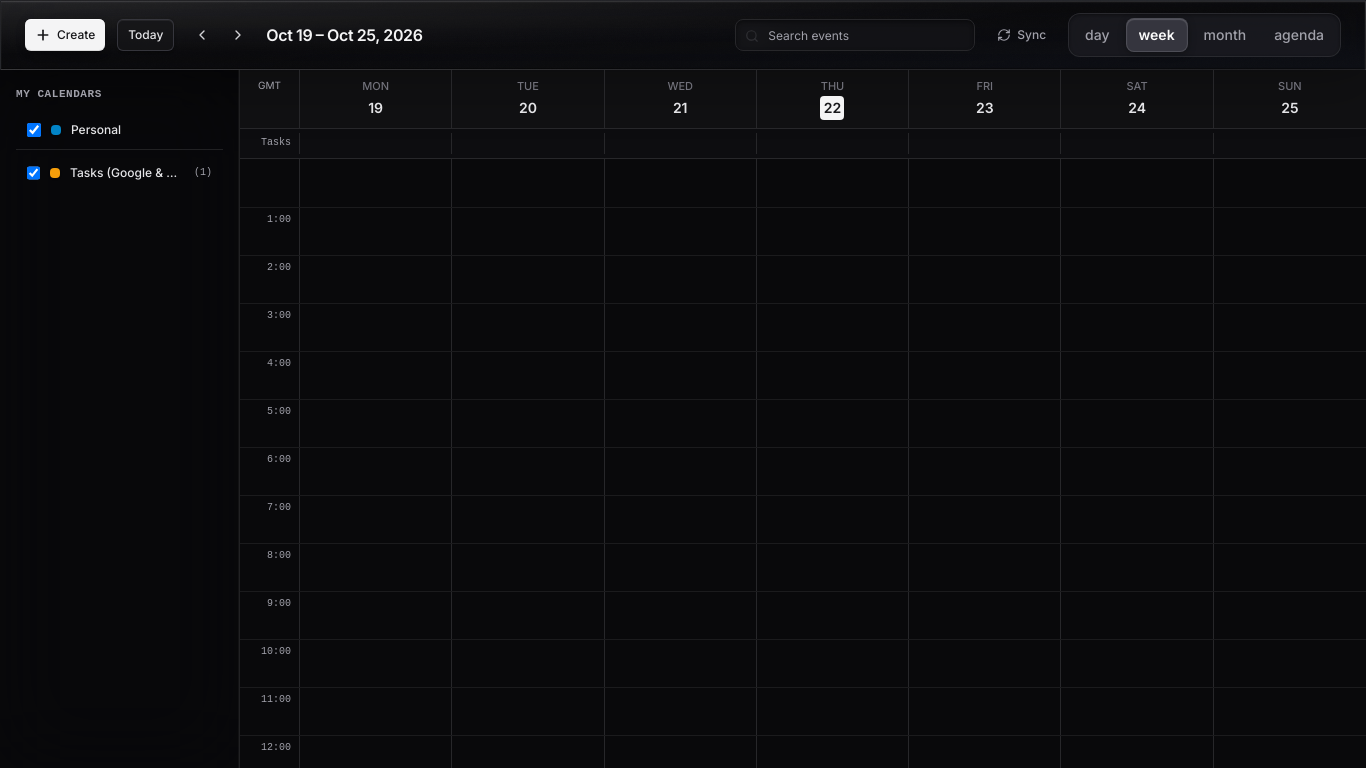
it: Calendar Tabbed Modal & Task Lifecycle (Create, Edit, Delete) › edits an existing task from the Calendar modal and persists modifications
# Switch to Agenda view
Click the tab "agenda" at (1299, 35), box left=1262, top=19, right=1336, bottom=51
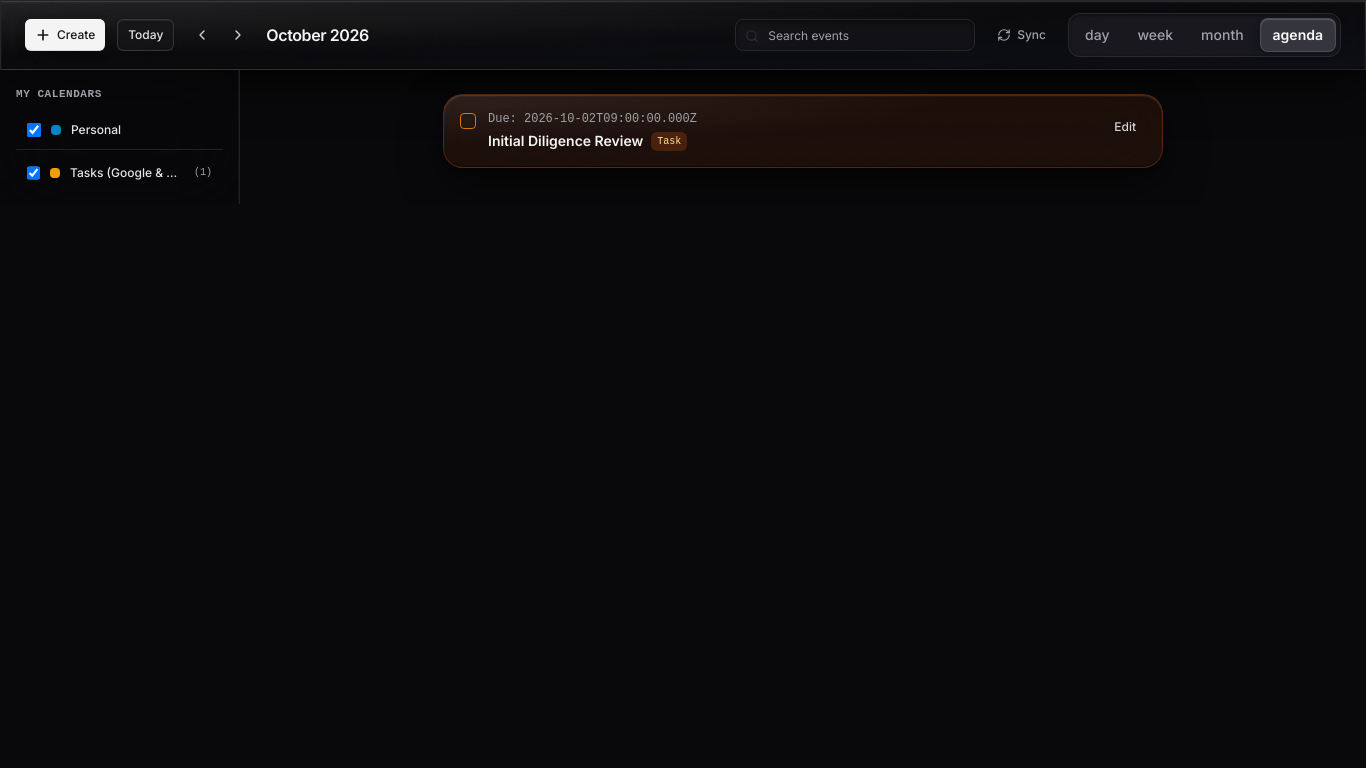
Expected: the heading "Initial Diligence Review" is shown
# Click on the task row to open the Edit Task modal
Click the heading "Initial Diligence Review" at (566, 141), box left=488, top=131, right=643, bottom=151
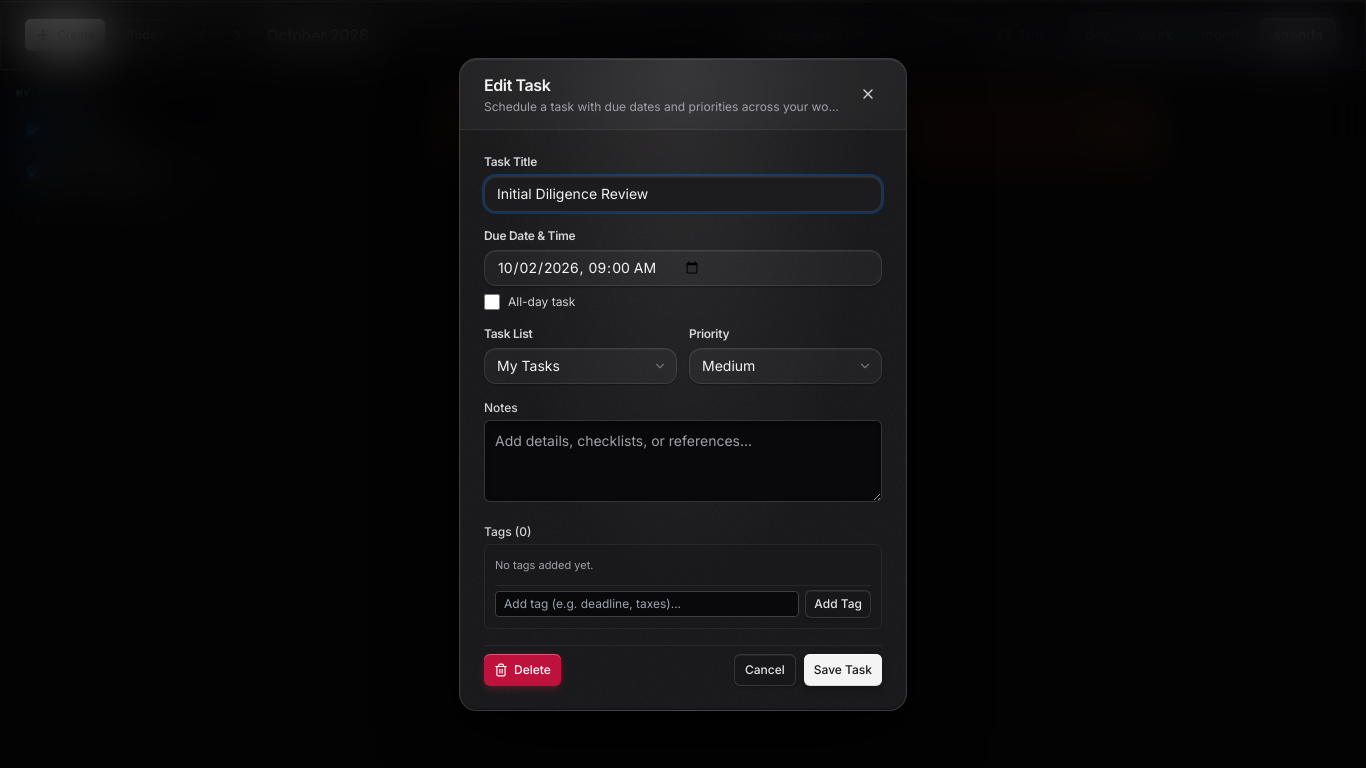
Expected: the heading "Edit Task" is shown, left=484, top=74, right=550, bottom=94
Expected: the field labelled "Task Title" holds "Initial Diligence Review"
# Edit title
Replace the text in the field labelled "Task Title" with "Updated Diligence Review (Approved)" at (683, 194), box left=484, top=176, right=882, bottom=212
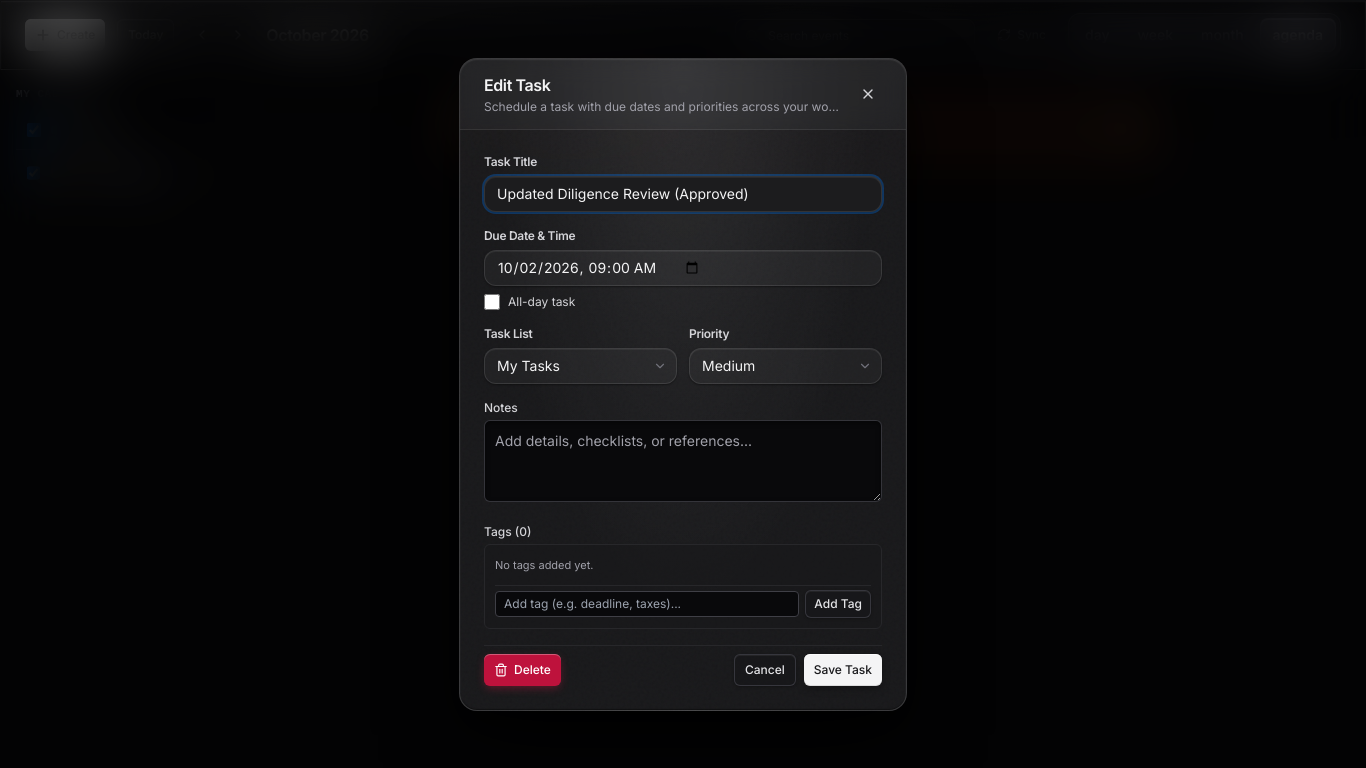
Click the button "Save Task" at (843, 670), box left=804, top=654, right=882, bottom=686
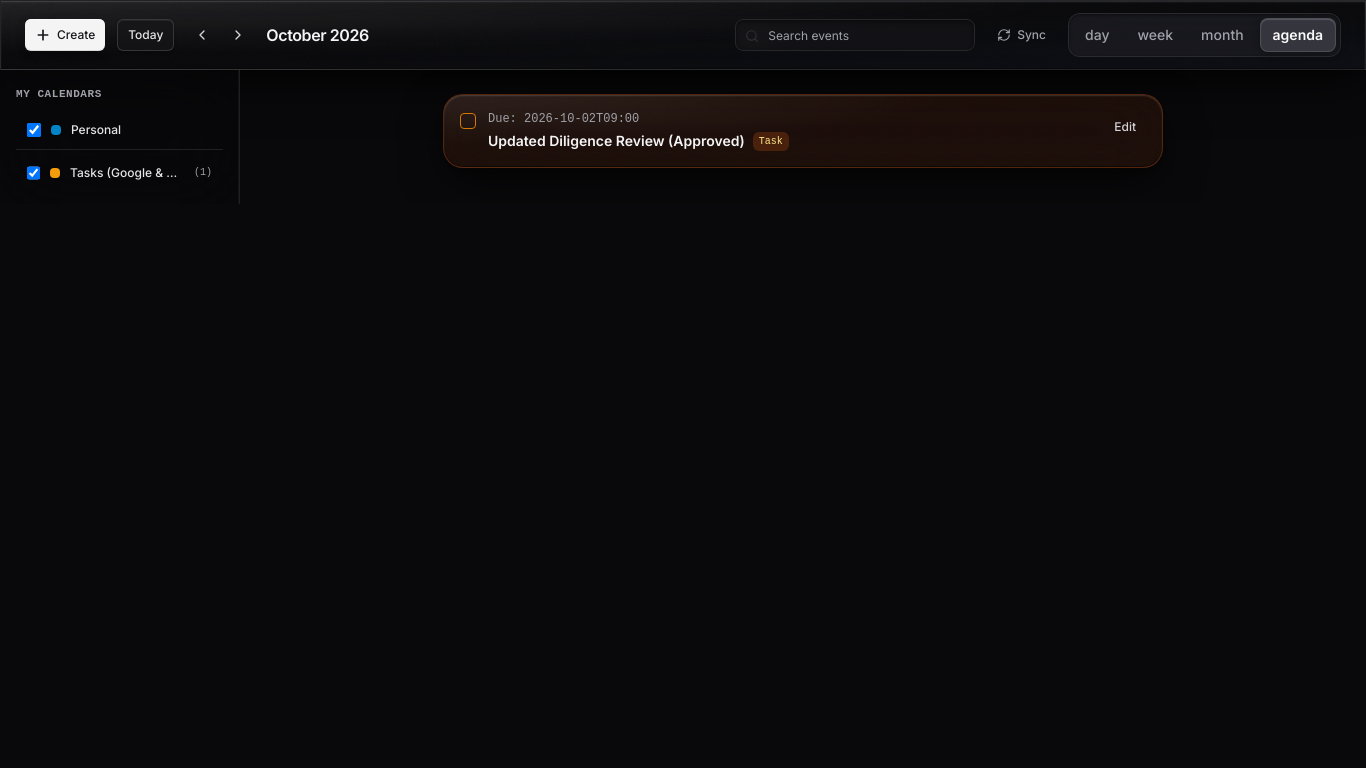
Expected: the heading "Edit Task" is gone
Expected: the heading "Updated Diligence Review (Approved)" is shown, left=488, top=131, right=745, bottom=151
Expected: the heading "Initial Diligence Review" is gone
